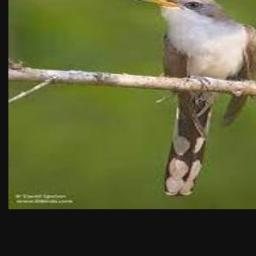Cuckoo: (135, 0, 256, 196)
